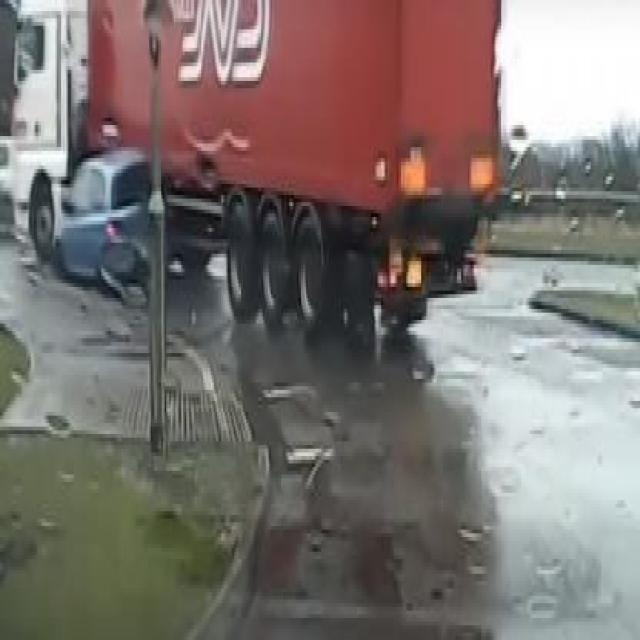accident: (5, 0, 506, 368)
